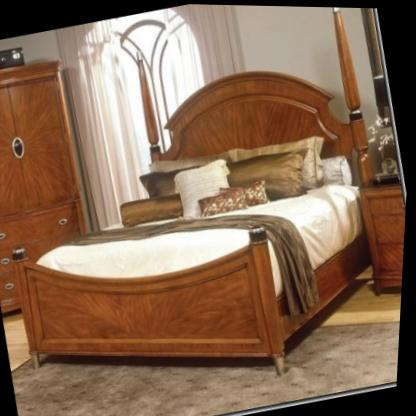Bed: (20, 70, 375, 356)
Carpet: (16, 319, 403, 416)
